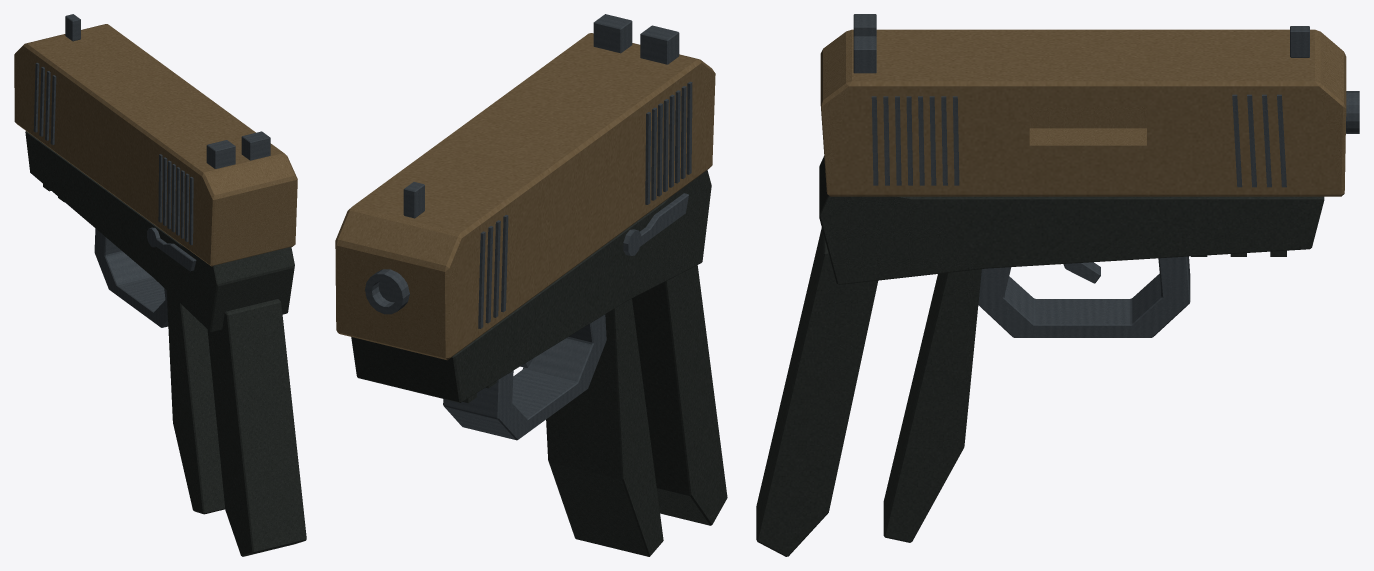
File: weapon_m17.glb
3 renders of one model, left to right at view 1: azimuth 30°, elevation 25°; view 2: azimuth 150°, elevation 25°; view 3: azimuth 270°, elevation 25°, orthographic. The views are drawn at different scales.
Parts seen in each view (by area): view 1: body_LOD0, action_LOD0; view 2: action_LOD0, body_LOD0; view 3: action_LOD0, body_LOD0.
Boxes of the visible parts, x1,y1,x2,y2 form: body_LOD0: (25, 131, 306, 556); action_LOD0: (14, 14, 297, 266); action_LOD0: (335, 14, 715, 360); body_LOD0: (351, 170, 727, 556); action_LOD0: (820, 14, 1346, 196); body_LOD0: (756, 91, 1359, 556).
Size of what is drawn, in the model's own units: 0.0814 by 0.3415 by 0.3648.
1 material, 1 textured.
